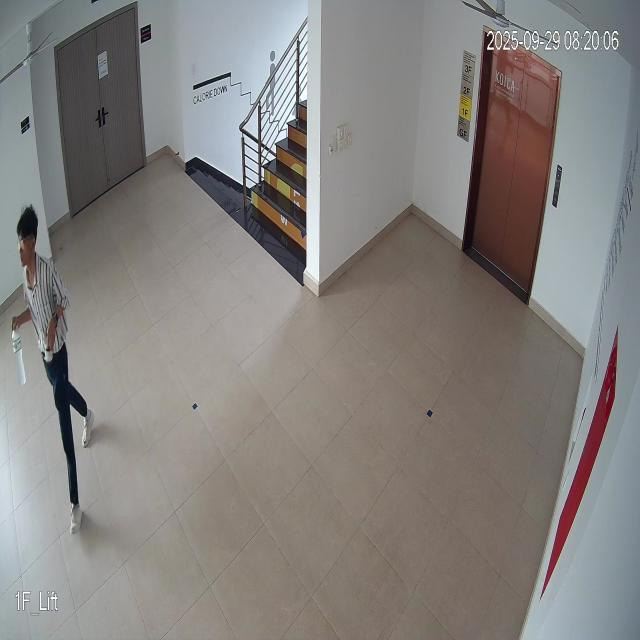face: (14, 202, 40, 274)
